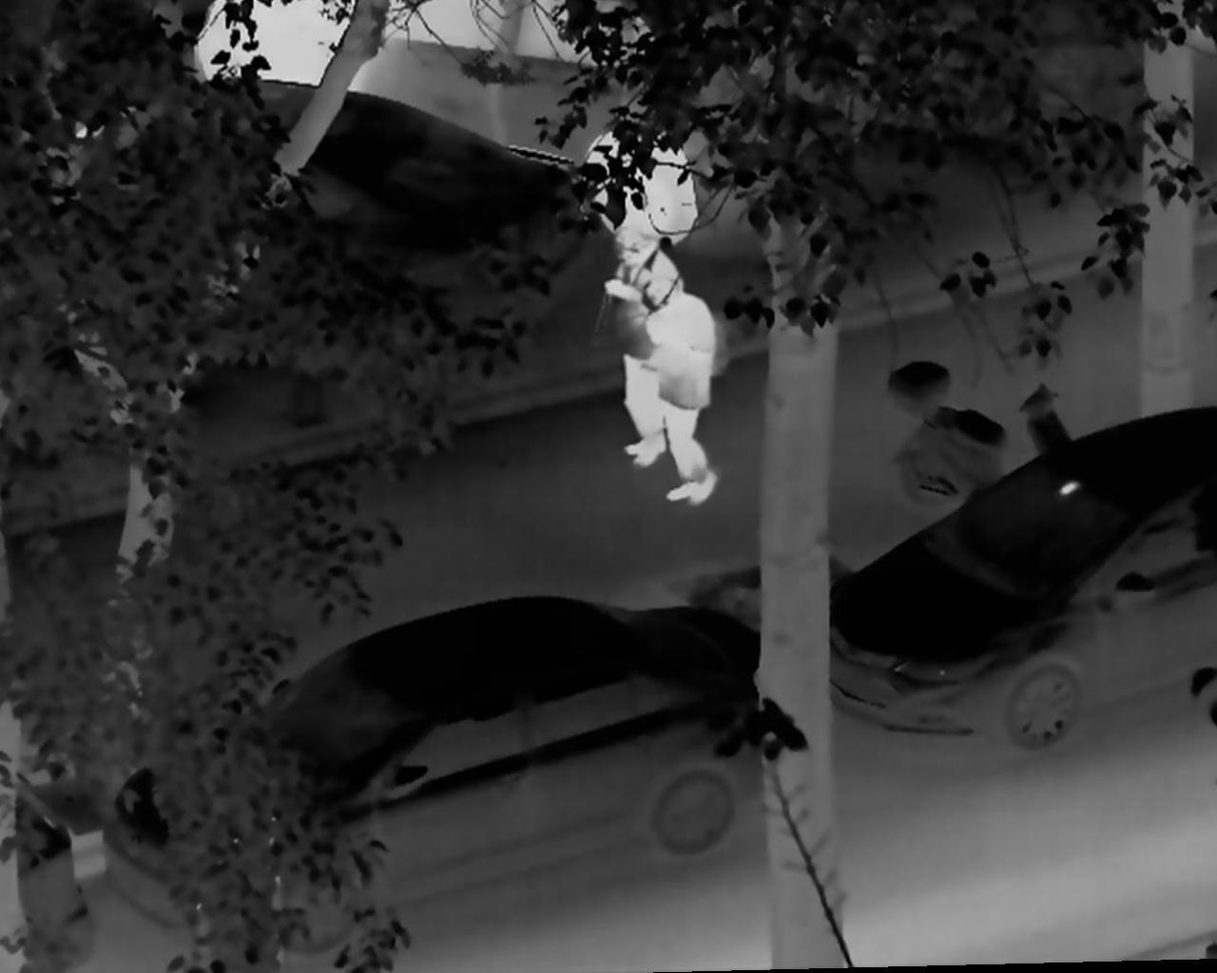person: (640, 247, 720, 515), (601, 218, 680, 472)
